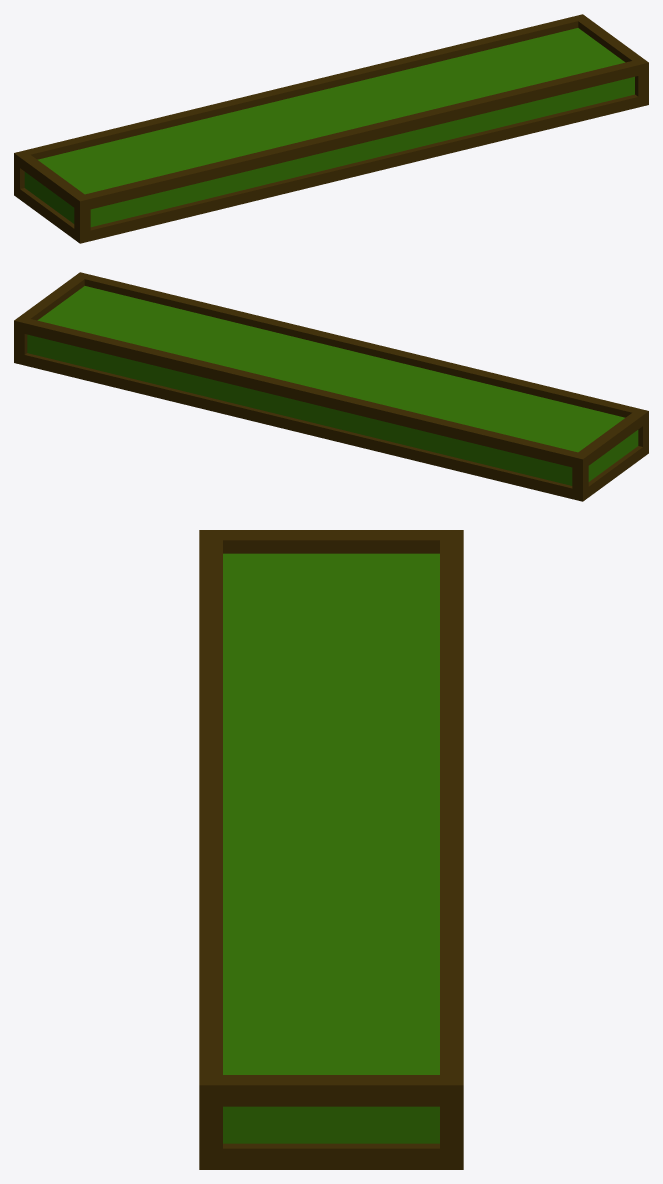
File: Table.fbx
The picture shows the model from 3 angles, top to bottom: view 1: azimuth 30°, elevation 25°; view 2: azimuth 150°, elevation 25°; view 3: azimuth 270°, elevation 25°; orthographic projection. The views are drawn at different scales.
Visible parts, largest first — view 1: Table; view 2: Table; view 3: Table.
Boxes of the visible parts, bbox=[...] form: Table: bbox=[14, 14, 648, 243]; Table: bbox=[14, 272, 648, 501]; Table: bbox=[199, 530, 463, 1169].
Bounding box in the file's own units: 993 × 70.69 × 200.
